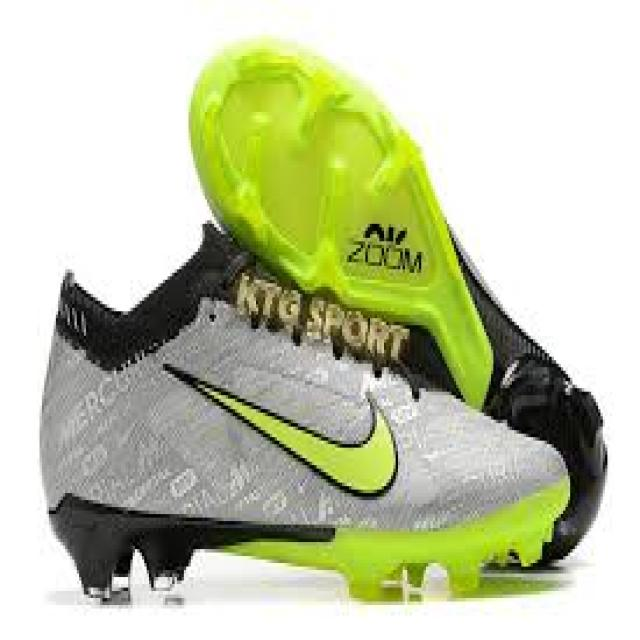shoes: (25, 29, 611, 601), (34, 218, 568, 593)
